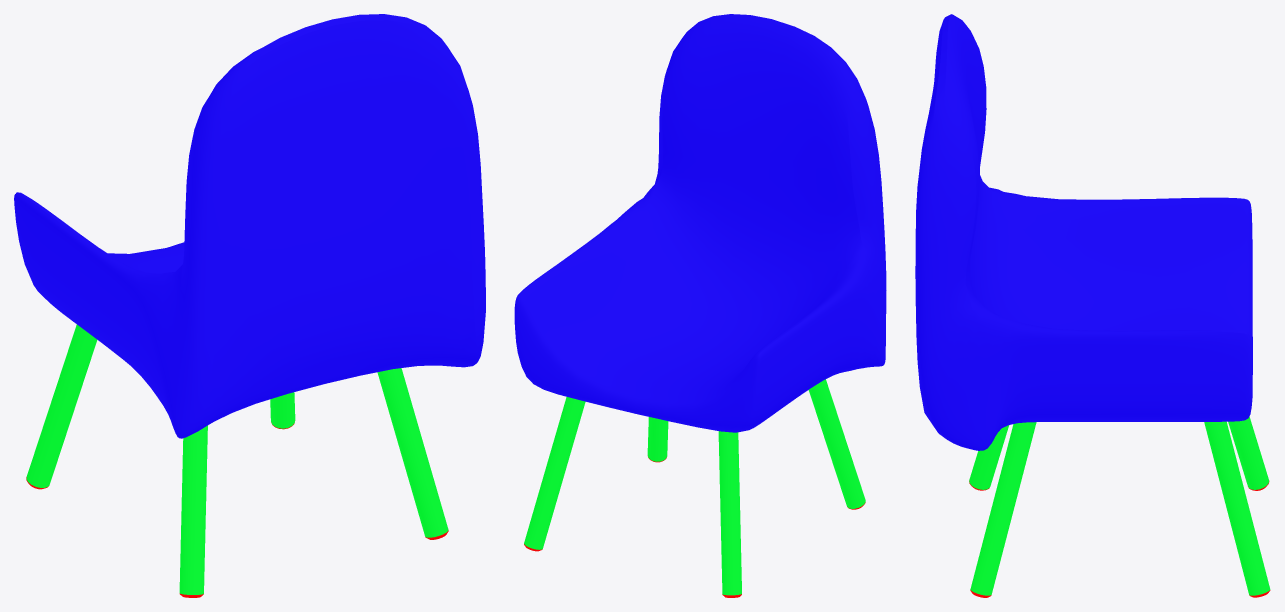
The model's file is Chair.fbx.
3 views of the same model, side by side, from view 1: azimuth 30°, elevation 25°; view 2: azimuth 150°, elevation 25°; view 3: azimuth 270°, elevation 25° (orthographic). The views are drawn at different scales.
Parts seen in each view (by area): view 1: Stuhl; view 2: Stuhl; view 3: Stuhl.
Boxes of the visible parts, box(x1,y1,x2,y2) form: Stuhl: box(14, 14, 485, 597); Stuhl: box(514, 14, 886, 597); Stuhl: box(915, 14, 1270, 597).
Bounding box in the file's own units: 57.82 × 101 × 64.
